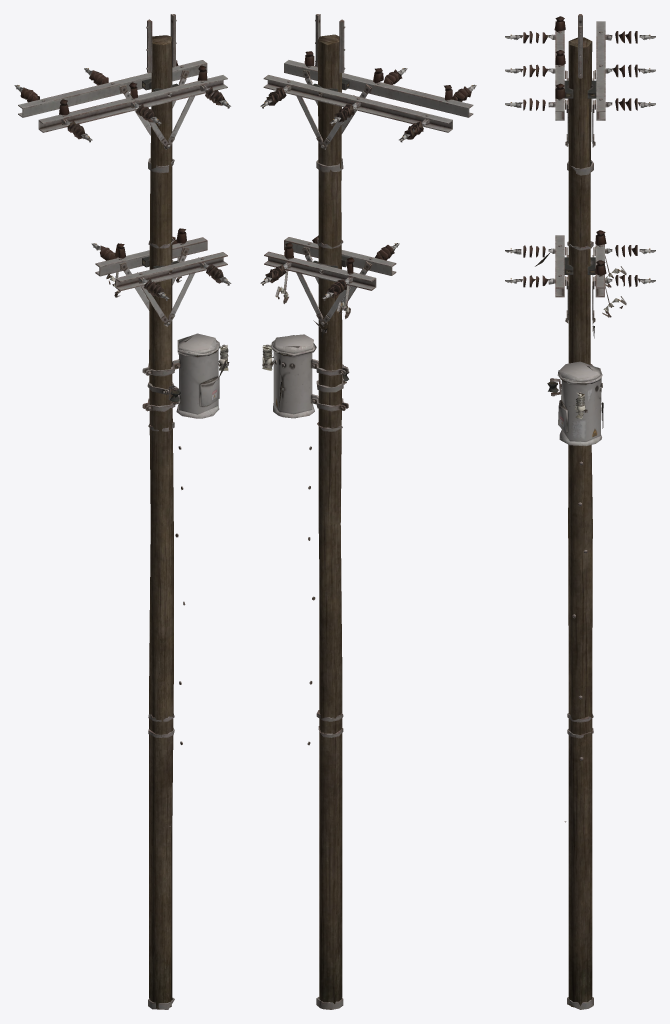
The model's file is pole3.glb.
The picture shows the model from 3 angles, left to right: view 1: azimuth 30°, elevation 25°; view 2: azimuth 150°, elevation 25°; view 3: azimuth 270°, elevation 25°; orthographic projection.
Parts seen in each view (by area): view 1: preset_03_pole, preset_03_bolt_small_01; view 2: preset_03_pole, preset_03_bolt_small_01; view 3: preset_03_pole, preset_03_bolt_small_01.
Part boxes in pixels (box(x1,y1,x2,y2)): preset_03_pole: box(149, 35, 173, 1009); preset_03_bolt_small_01: box(14, 14, 231, 1009); preset_03_pole: box(317, 34, 342, 1005); preset_03_bolt_small_01: box(260, 14, 476, 1009); preset_03_pole: box(568, 37, 592, 1007); preset_03_bolt_small_01: box(505, 14, 655, 1009).
Size of the model in its own units: 1.29 by 6.13 by 0.8522.
2 materials, 2 textured.
